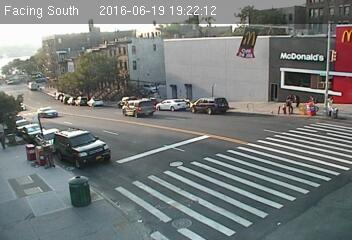neg: (109, 107, 132, 137), (157, 116, 173, 138), (227, 142, 243, 164), (70, 125, 82, 142)
pos: (282, 90, 299, 113), (323, 95, 338, 115), (292, 90, 303, 105)
